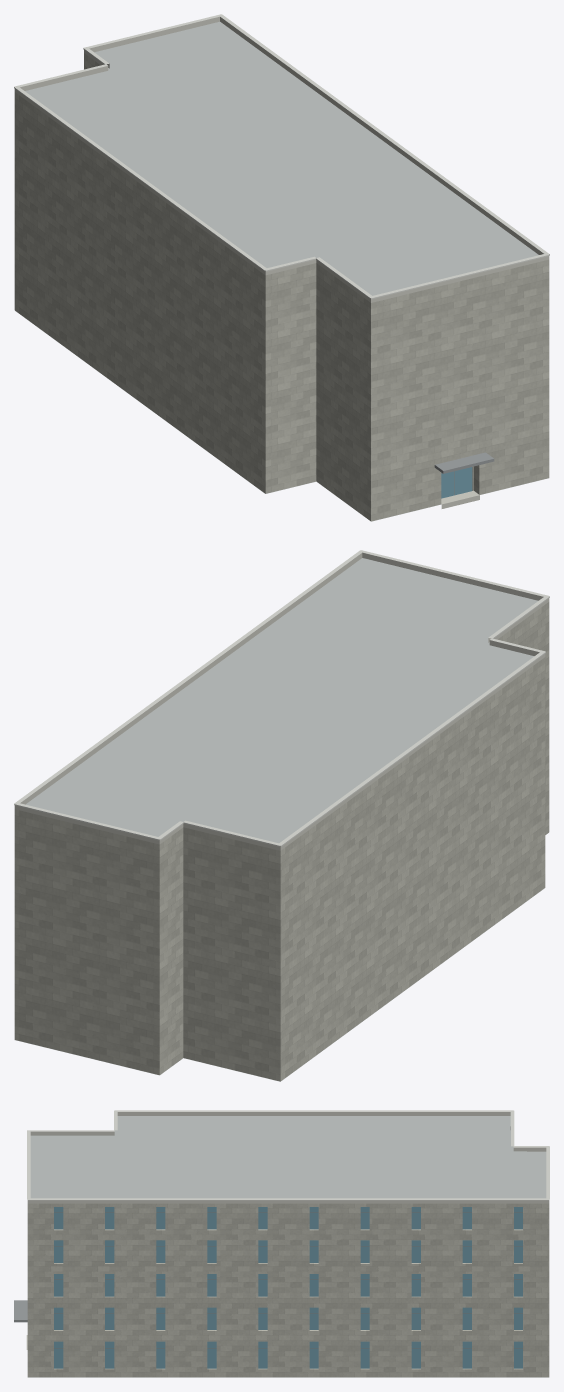
The picture shows the model from 3 angles, top to bottom: view 1: azimuth 30°, elevation 25°; view 2: azimuth 150°, elevation 25°; view 3: azimuth 270°, elevation 25°; orthographic projection. The views are drawn at different scales.
Parts seen in each view (by area): view 1: b113__wall, unist-batch-b113__parapet, b113__trim, b113__glass, b113__canopy; view 2: b113__wall, unist-batch-b113__parapet, b113__trim; view 3: b113__wall, unist-batch-b113__parapet, b113__glass, b113__trim, b113__frame.
Boxes of the visible parts, x1,y1,x2,y2 form: b113__wall: (14, 53, 549, 521); unist-batch-b113__parapet: (14, 16, 549, 521); b113__trim: (14, 14, 549, 299); b113__glass: (441, 467, 472, 498); b113__canopy: (434, 452, 494, 473); b113__wall: (14, 602, 549, 1081); unist-batch-b113__parapet: (14, 552, 549, 1081); b113__trim: (14, 550, 549, 846); b113__wall: (27, 1203, 549, 1377); unist-batch-b113__parapet: (27, 1112, 549, 1377); b113__glass: (54, 1207, 522, 1368); b113__trim: (27, 1110, 549, 1200); b113__frame: (54, 1212, 522, 1348).
Bounding box in the file's own units: 21.75 × 20.55 × 55.05.
Materials: 7 (1 with a texture image).
